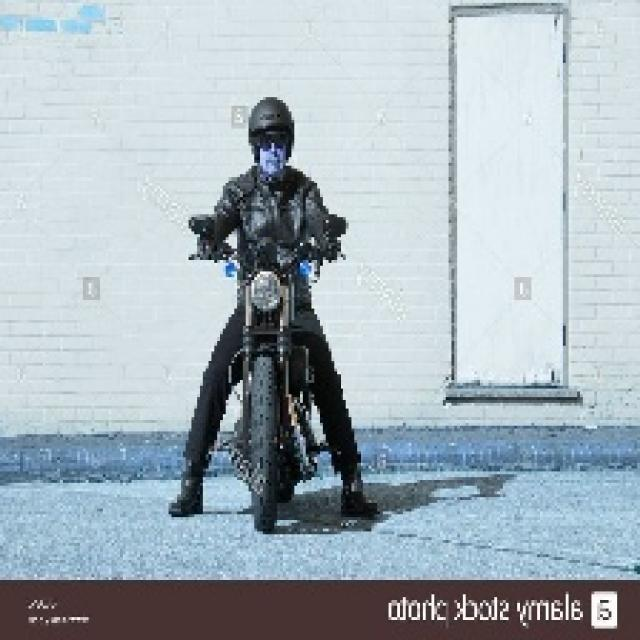bike: (186, 218, 331, 538)
